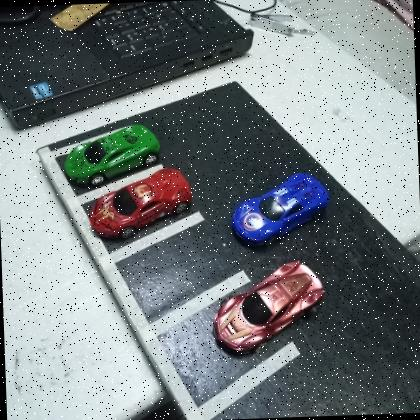Car: (210, 257, 330, 356), (229, 170, 333, 249), (86, 166, 196, 240), (61, 123, 164, 186)
